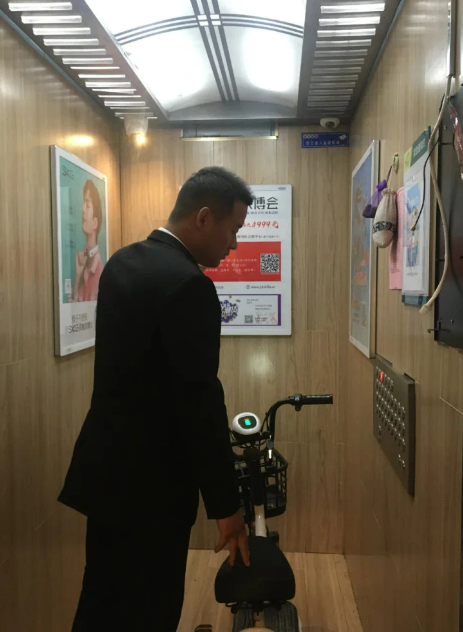ebike: (199, 394, 341, 632)
person: (70, 165, 249, 632)
